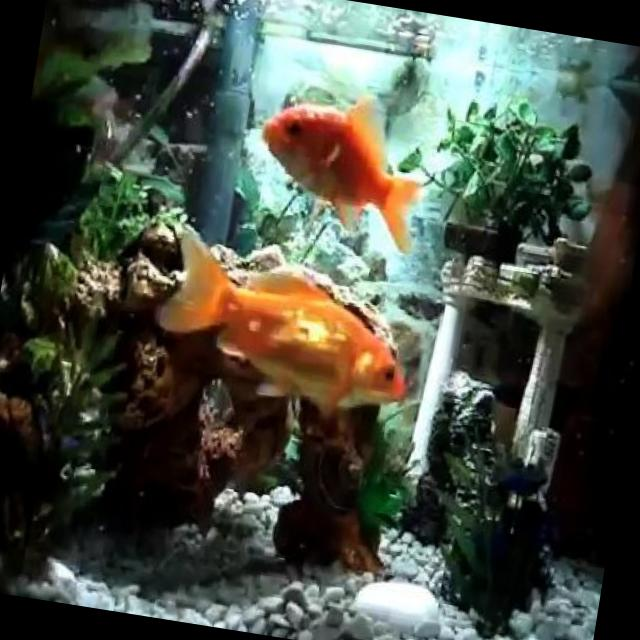GoldFish: (146, 221, 428, 424), (246, 78, 436, 256)
